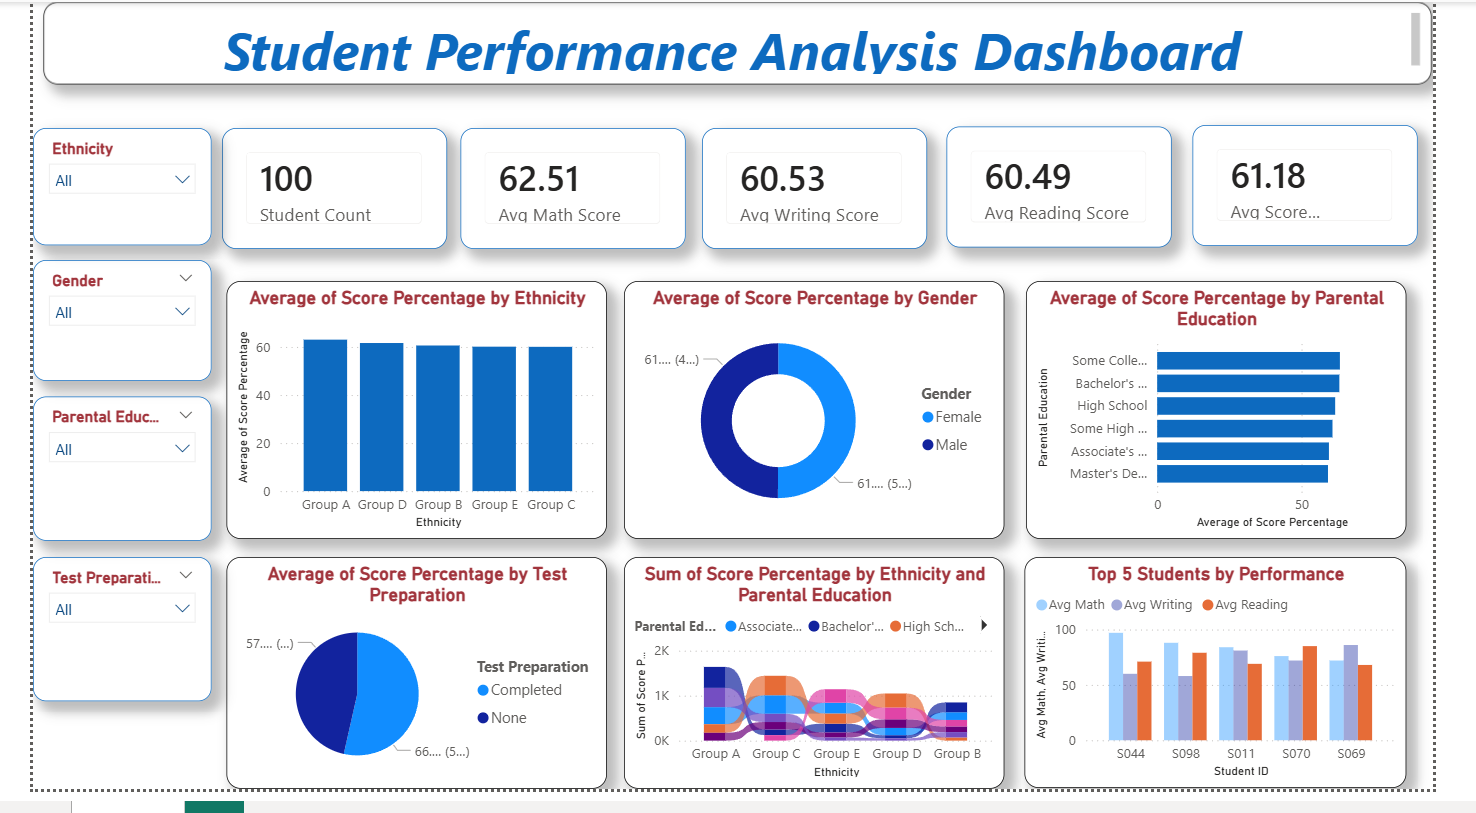

What the dashboard file says about the page in this screenshot:
{"tool":"powerbi","page":{"name":"Page 1","canvas":[1280,720],"ordinal":0},"visuals":[{"type":"textbox","box":[9.4,0,1269.9,75.6],"z":0},{"type":"cardVisual","fields":{"Data":["CountNonNull(Marks.Student ID)"]},"box":[172.6,115.1,205.9,110.5],"z":1000},{"type":"cardVisual","fields":{"Data":["Avg(Marks.Math Score)"]},"box":[390.7,115.1,205.9,110.5],"z":2000},{"type":"cardVisual","fields":{"Data":["Avg(Marks.Writing Score)"]},"box":[611.7,115.1,205.9,110.5],"z":3000},{"type":"cardVisual","fields":{"Data":["Avg(Marks.Reading Score)"]},"box":[835.8,113.6,205.9,110.5],"z":4000},{"type":"cardVisual","fields":{"Data":["Avg(Marks.Score Percentage)"]},"box":[1061.5,112.1,205.9,110.5],"z":5000},{"type":"slicer","fields":{"Values":["Marks.Ethnicity"]},"box":[0,115.1,163.5,107.5],"z":6000},{"type":"slicer","fields":{"Values":["Marks.Gender"]},"box":[0,236.2,163.5,110.5],"z":7000},{"type":"slicer","fields":{"Values":["Marks.Parental Education"]},"box":[0,360.4,163.5,131.7],"z":8000},{"type":"columnChart","fields":{"Category":["Marks.Ethnicity"],"Y":["Avg(Marks.Score Percentage)"]},"box":[177.2,255.9,348.3,236.2],"z":9000},{"type":"clusteredBarChart","fields":{"Y":["Avg(Marks.Score Percentage)"],"Category":["Marks.Parental Education"]},"box":[908.5,255.9,348.3,236.2],"z":10000},{"type":"donutChart","fields":{"Category":["Marks.Gender"],"Y":["Avg(Marks.Score Percentage)"]},"box":[540.6,255.9,348.3,236.2],"z":11000},{"type":"pieChart","fields":{"Y":["Avg(Marks.Score Percentage)"],"Category":["Marks.Test Preparation"]},"box":[177.2,507.3,348.3,212],"z":12000},{"type":"ribbonChart","fields":{"Category":["Marks.Ethnicity"],"Series":["Marks.Parental Education"],"Y":["Sum(Marks.Score Percentage)"]},"box":[540.6,507.3,348.3,212],"z":13000},{"type":"slicer","fields":{"Values":["Marks.Test Preparation"]},"box":[0,507.3,163.5,131.7],"z":14000},{"type":"lineClusteredColumnComboChart","title":"Top 5 Students by Performance","fields":{"Y":["Avg(Marks.Math Score)","Avg(Marks.Writing Score)","Avg(Marks.Reading Score)"],"Category":["Marks.Student ID"]},"box":[907.1,508.4,349.6,211.7],"z":14001}]}

Visuals, with their boxes in screenshot pixels (x1, y1, x2, y2), scaled from the page's 1280x720 canvas onto the 1476x813 screenshot:
textbox: 11 0 1475 85
cardVisual - CountNonNull(Marks.Student ID): 199 130 436 255
cardVisual - Avg(Marks.Math Score): 451 130 688 255
cardVisual - Avg(Marks.Writing Score): 705 130 943 255
cardVisual - Avg(Marks.Reading Score): 964 128 1201 253
cardVisual - Avg(Marks.Score Percentage): 1224 127 1461 251
slicer - Marks.Ethnicity: 0 130 189 251
slicer - Marks.Gender: 0 267 189 391
slicer - Marks.Parental Education: 0 407 189 556
columnChart - Marks.Ethnicity x Avg(Marks.Score Percentage): 204 289 606 556
clusteredBarChart - Avg(Marks.Score Percentage) x Marks.Parental Education: 1048 289 1449 556
donutChart - Marks.Gender x Avg(Marks.Score Percentage): 623 289 1025 556
pieChart - Avg(Marks.Score Percentage) x Marks.Test Preparation: 204 573 606 812
ribbonChart - Marks.Ethnicity x Marks.Parental Education: 623 573 1025 812
slicer - Marks.Test Preparation: 0 573 189 722
"Top 5 Students by Performance" lineClusteredColumnComboChart: 1046 574 1449 812
